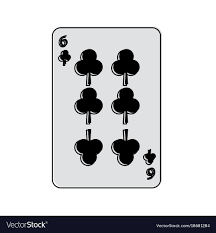six of hearts: (53, 27, 161, 187)
